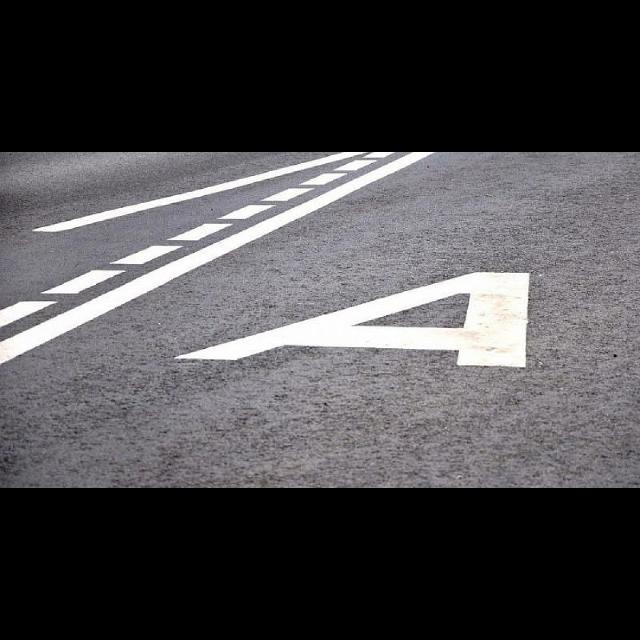road: (1, 152, 639, 487)
